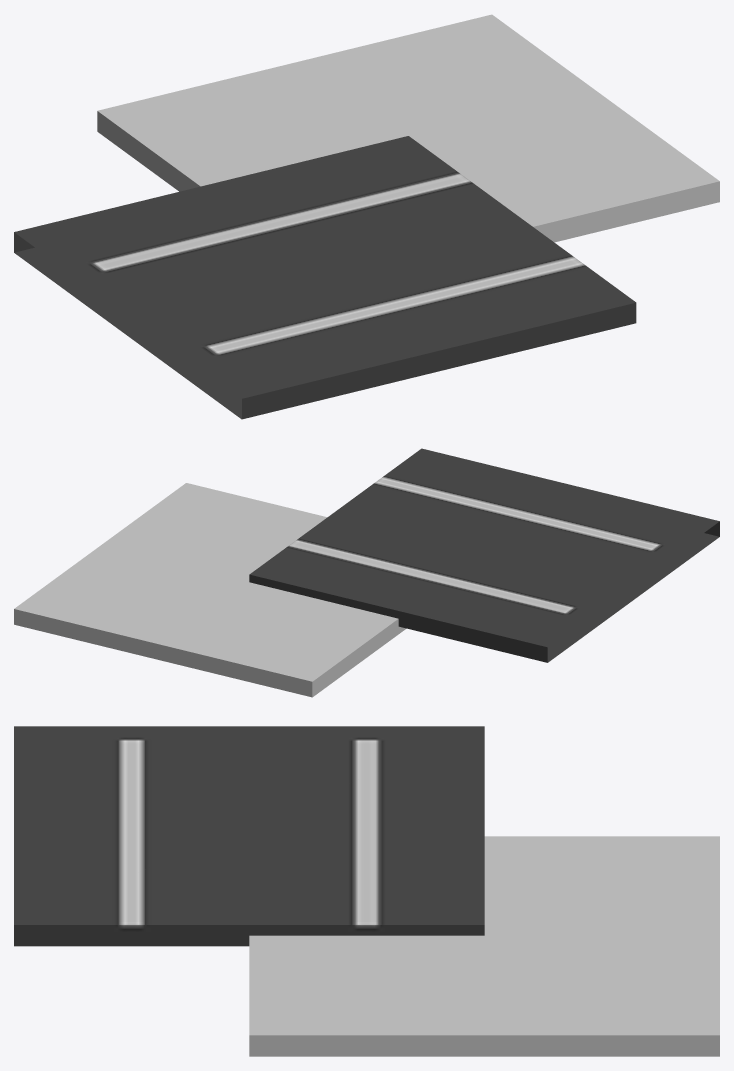
Rendered from SM_Factory_Road_Parking.fbx.
3 renders of one model, top to bottom at view 1: azimuth 30°, elevation 25°; view 2: azimuth 150°, elevation 25°; view 3: azimuth 270°, elevation 25°, orthographic. The views are drawn at different scales.
Parts seen in each view (by area): view 1: SM_Factory_Road_Parking, SM_Factory_Road_Parking_ConvexHulls; view 2: SM_Factory_Road_Parking, SM_Factory_Road_Parking_ConvexHulls; view 3: SM_Factory_Road_Parking, SM_Factory_Road_Parking_ConvexHulls.
Part boxes in pixels (left/top/right/bottom): SM_Factory_Road_Parking: left=14, top=136, right=636, bottom=419; SM_Factory_Road_Parking_ConvexHulls: left=97, top=14, right=719, bottom=242; SM_Factory_Road_Parking: left=249, top=448, right=719, bottom=662; SM_Factory_Road_Parking_ConvexHulls: left=14, top=483, right=406, bottom=697; SM_Factory_Road_Parking: left=14, top=726, right=484, bottom=946; SM_Factory_Road_Parking_ConvexHulls: left=249, top=836, right=719, bottom=1056.
Size of the model in its own units: 750 by 750 by 37.63.
2 materials, 1 textured.
